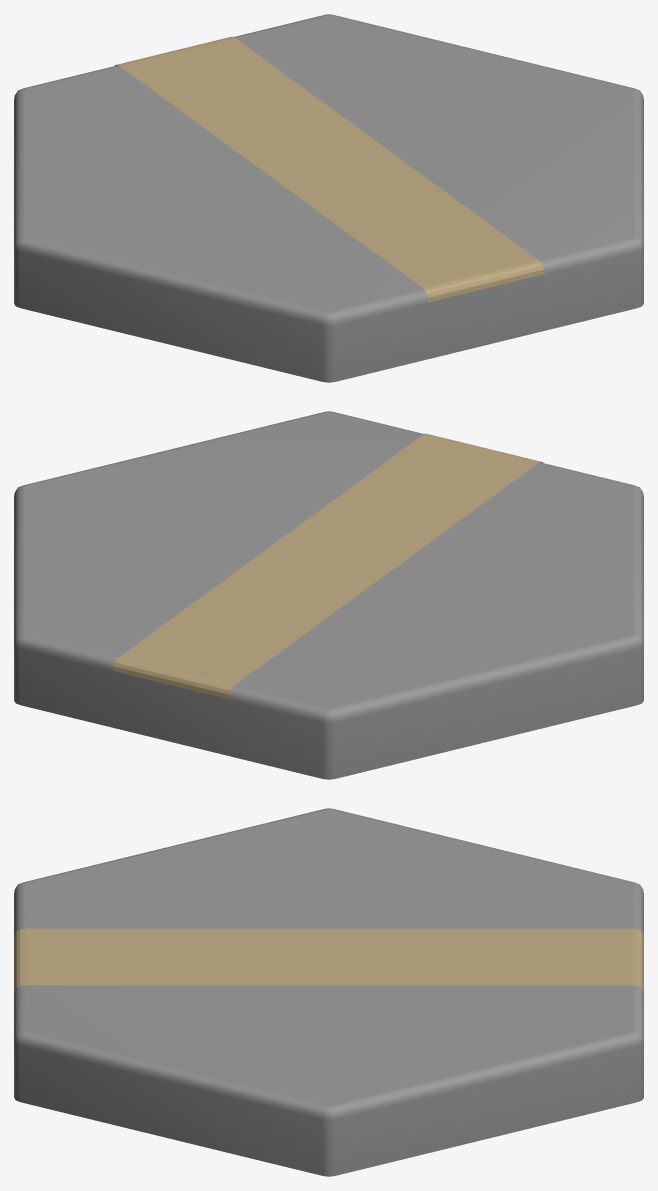
The model's file is Road_TutType1.fbx.
3 views of the same model, one above another, from view 1: azimuth 30°, elevation 25°; view 2: azimuth 150°, elevation 25°; view 3: azimuth 270°, elevation 25° (orthographic).
Parts seen in each view (by area): view 1: Object009; view 2: Object009; view 3: Object009.
Part boxes in pixels (x1,y1,x2,y2): Object009: (14,14,643,382); Object009: (14,411,643,779); Object009: (14,808,643,1176).
Size of the model in its own units: 99.5 by 10.13 by 86.6.
